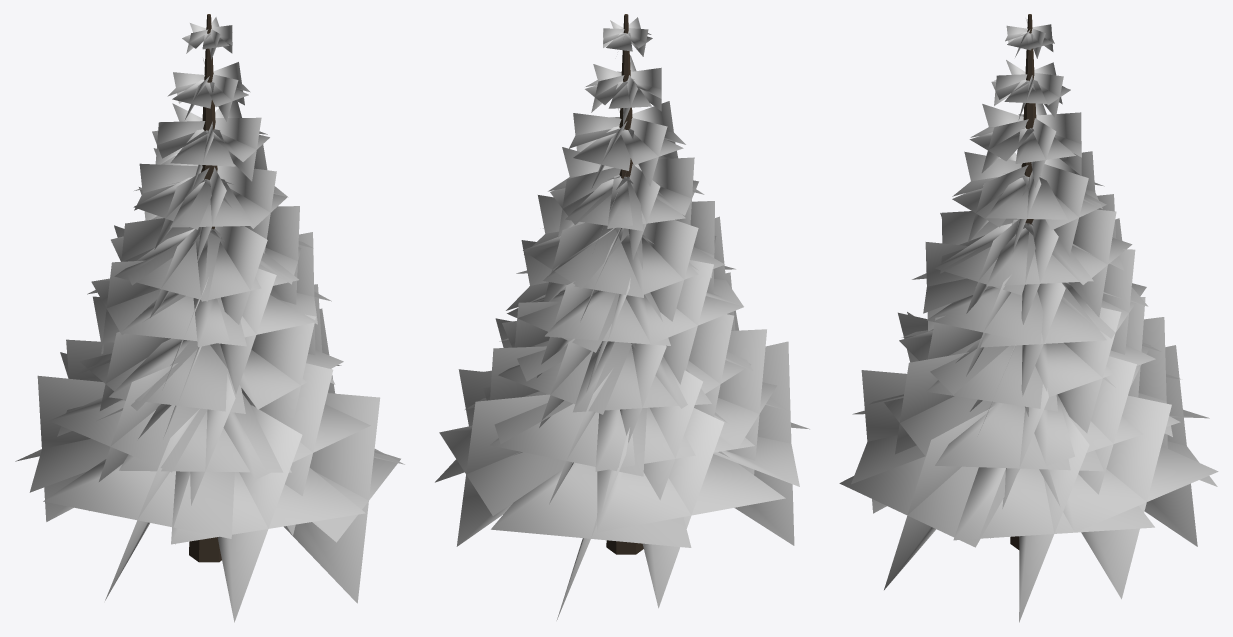
File: field_fir.glb
3 views of the same model, side by side, from view 1: azimuth 30°, elevation 25°; view 2: azimuth 150°, elevation 25°; view 3: azimuth 270°, elevation 25° (orthographic). The views are drawn at different scales.
Parts seen in each view (by area): view 1: field_fir; view 2: field_fir; view 3: field_fir.
Boxes of the visible parts, box(x1,y1,x2,y2) form: field_fir: box(15, 14, 404, 622); field_fir: box(435, 14, 809, 620); field_fir: box(839, 14, 1218, 622).
Size of the model in its own units: 5.83 by 9.1 by 5.79.
2 materials, 1 textured.
